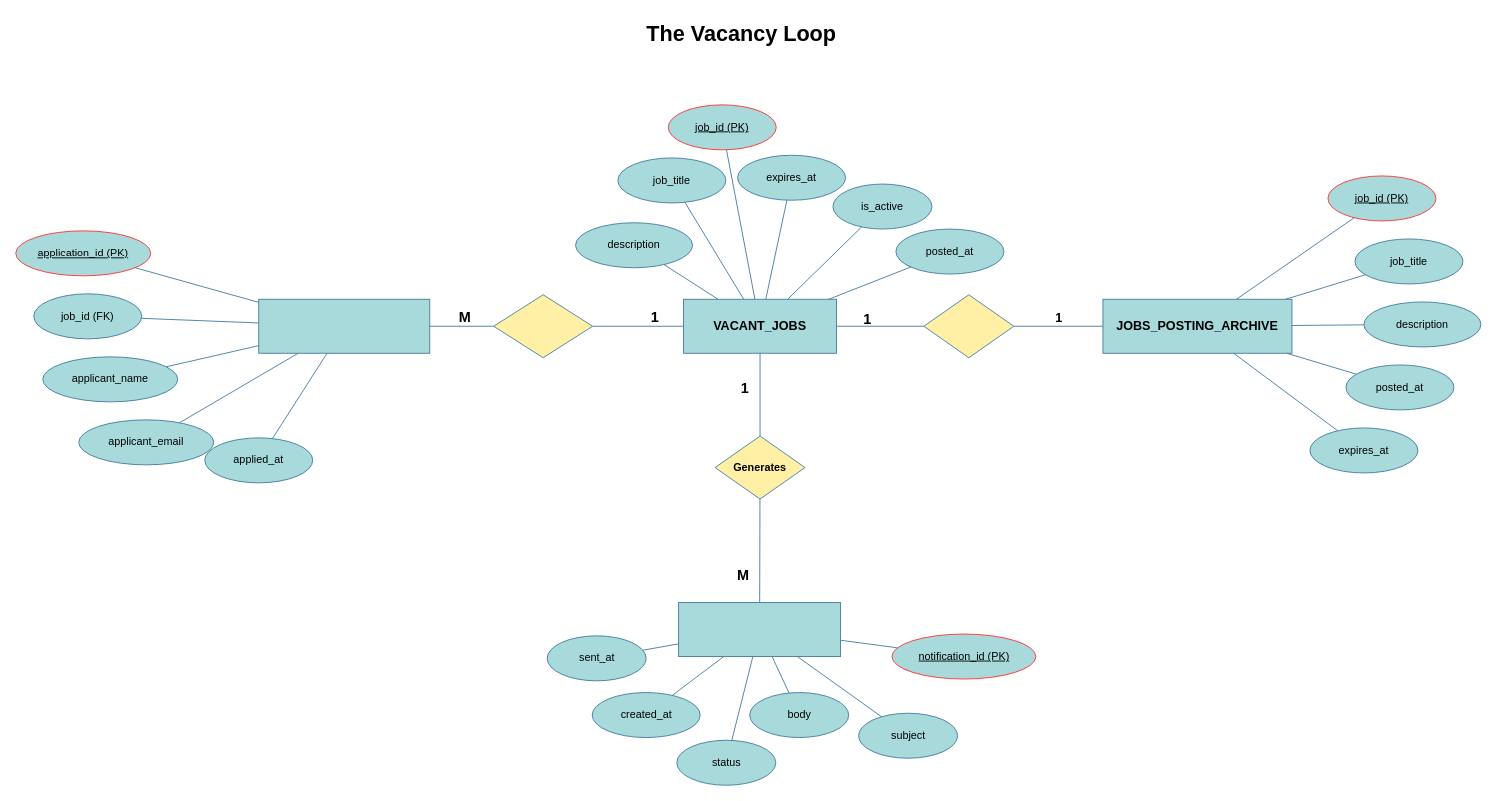
Some shapes in this 1497 by 801 pixel diagram are drawn without their labels. The shapes that lost their labels are listed below. From the top down, each one's centre as x and y in pixels, then its label:
At (x=344, y=325): "JOB_APPLICATIONS".
At (x=543, y=326): "Applies To".
At (x=968, y=326): "Archived As".
At (x=759, y=629): "NOTIFICATIONS".
